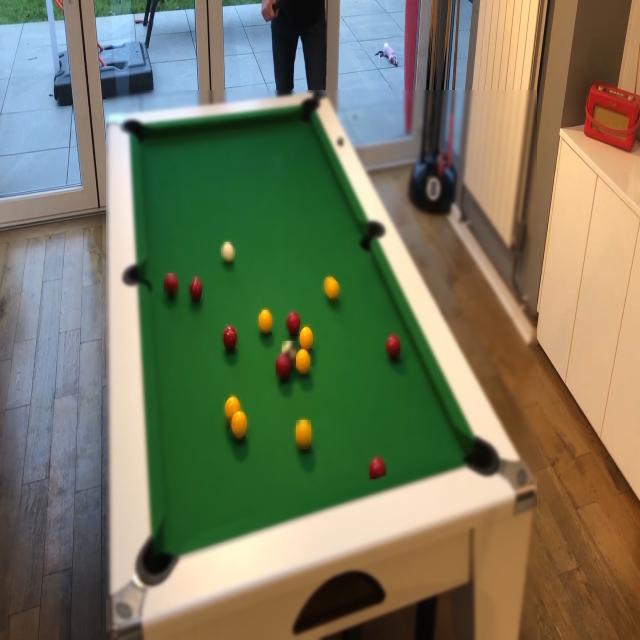Ball: (231, 411, 248, 439), (296, 420, 311, 449), (324, 278, 340, 304), (225, 396, 240, 421), (386, 335, 401, 360), (299, 326, 314, 350), (223, 326, 237, 351), (276, 354, 290, 379), (189, 277, 203, 302), (296, 349, 310, 373), (370, 458, 386, 479), (282, 341, 296, 365), (259, 310, 272, 335), (286, 313, 300, 336), (164, 274, 178, 296), (221, 242, 235, 264)
Billiard table: (106, 90, 537, 640)
